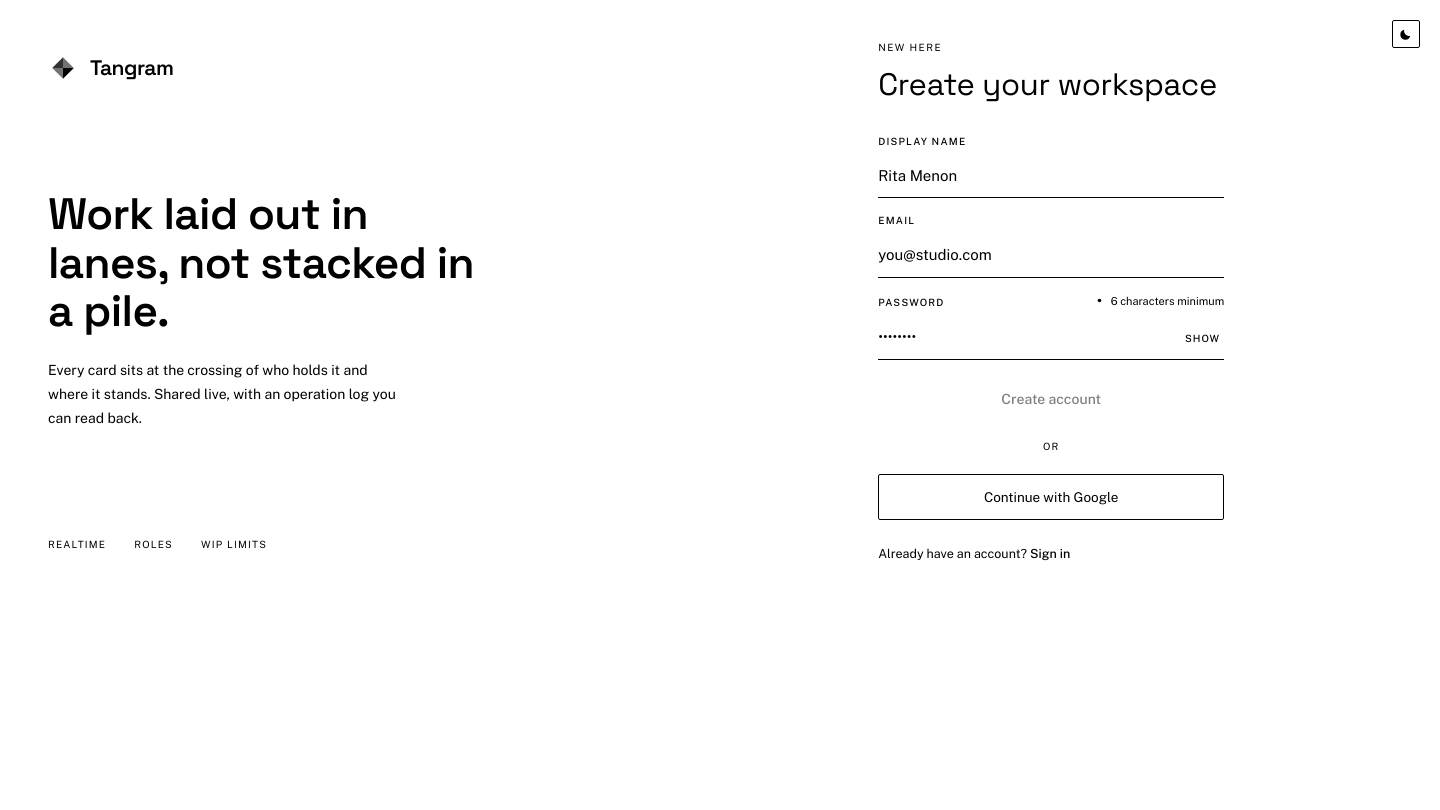
SignupPage — where a new account lands › stays put and explains when sign-up fails
Type "Ada Lovelace" into the field labelled "Display name" at point(1051, 176), box [878,154,1224,198]
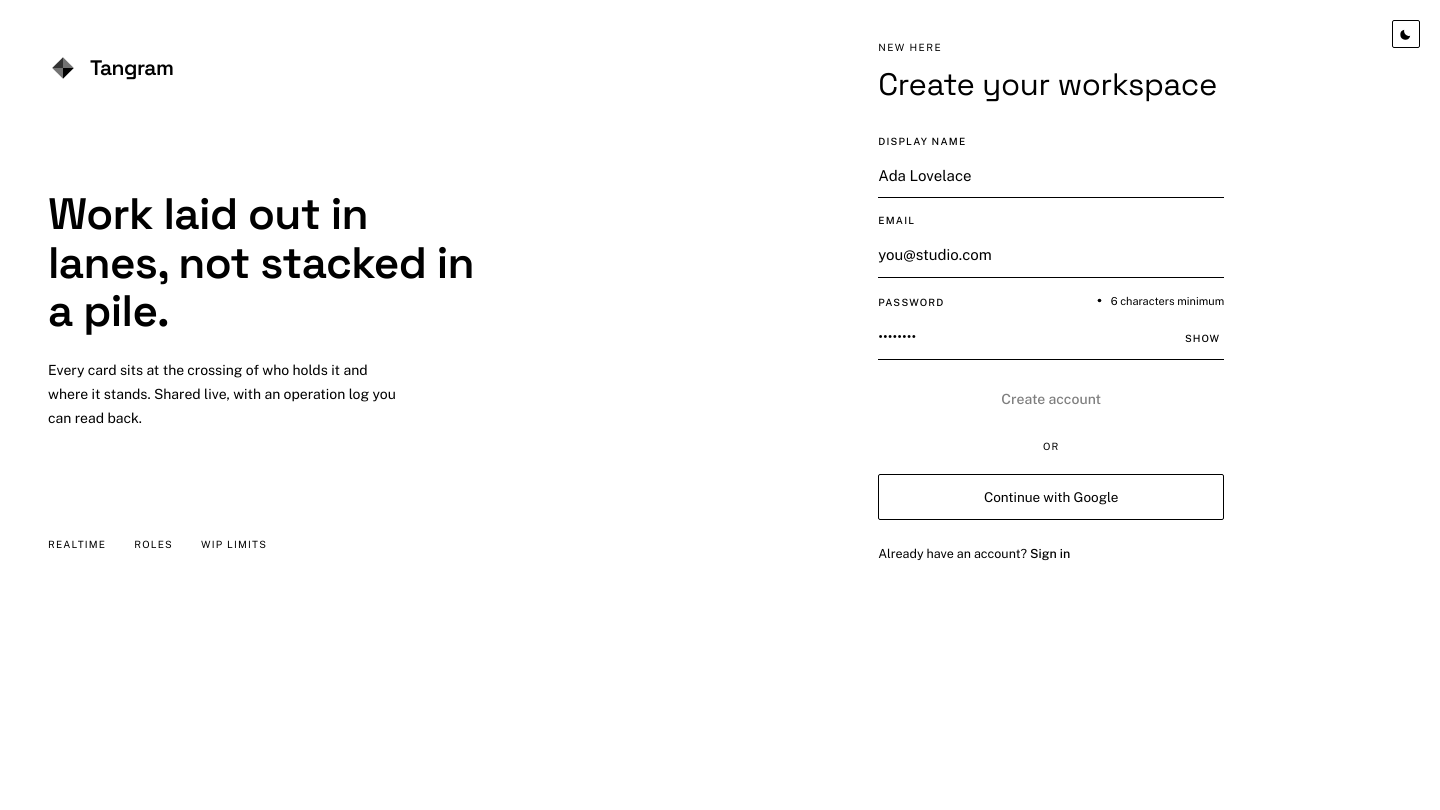
Type "ada@example.com" into the field labelled "Email" at point(1051, 256), box [878,234,1224,278]
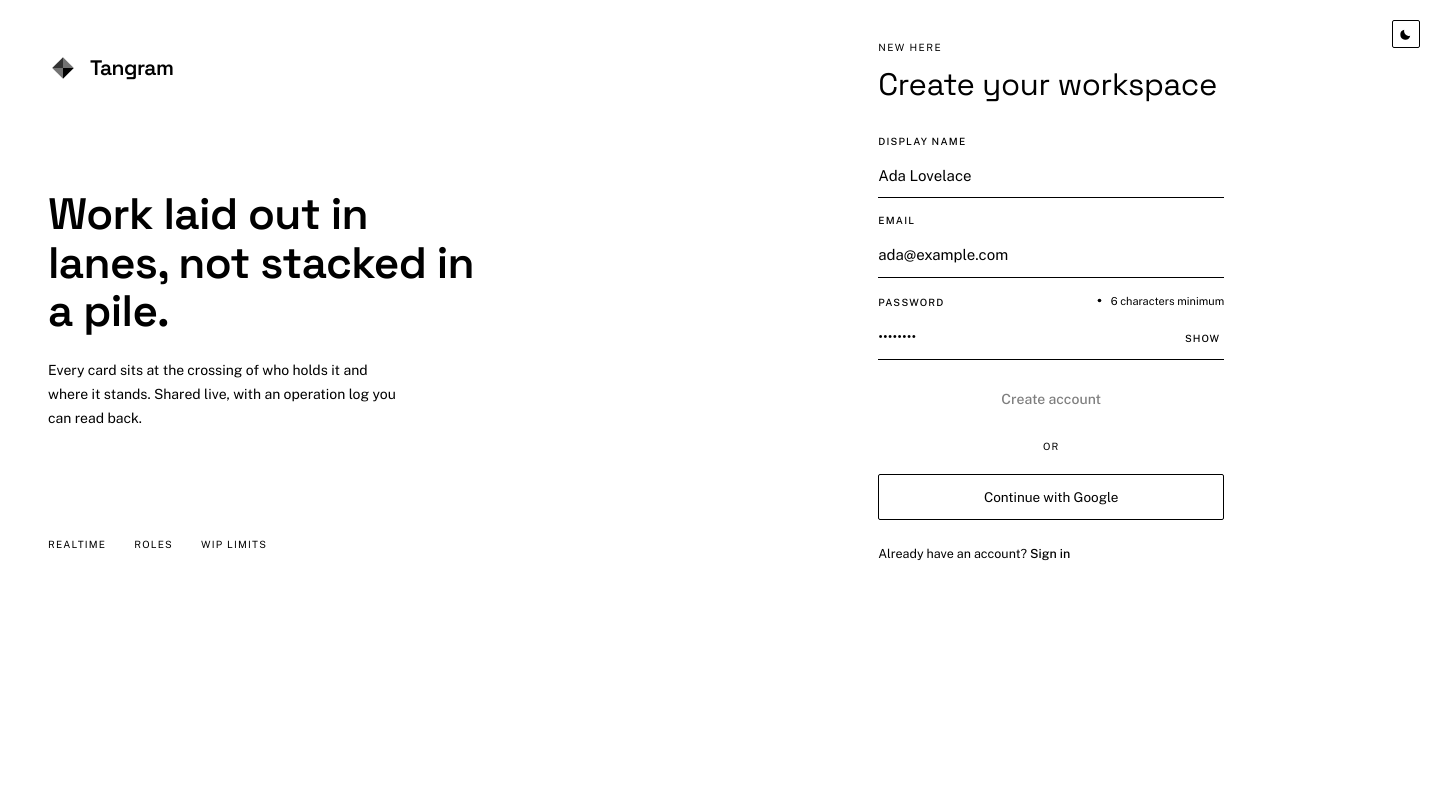
Type "correct-horse" into the password field labelled "Password" at point(1051, 338), box [878,316,1224,360]
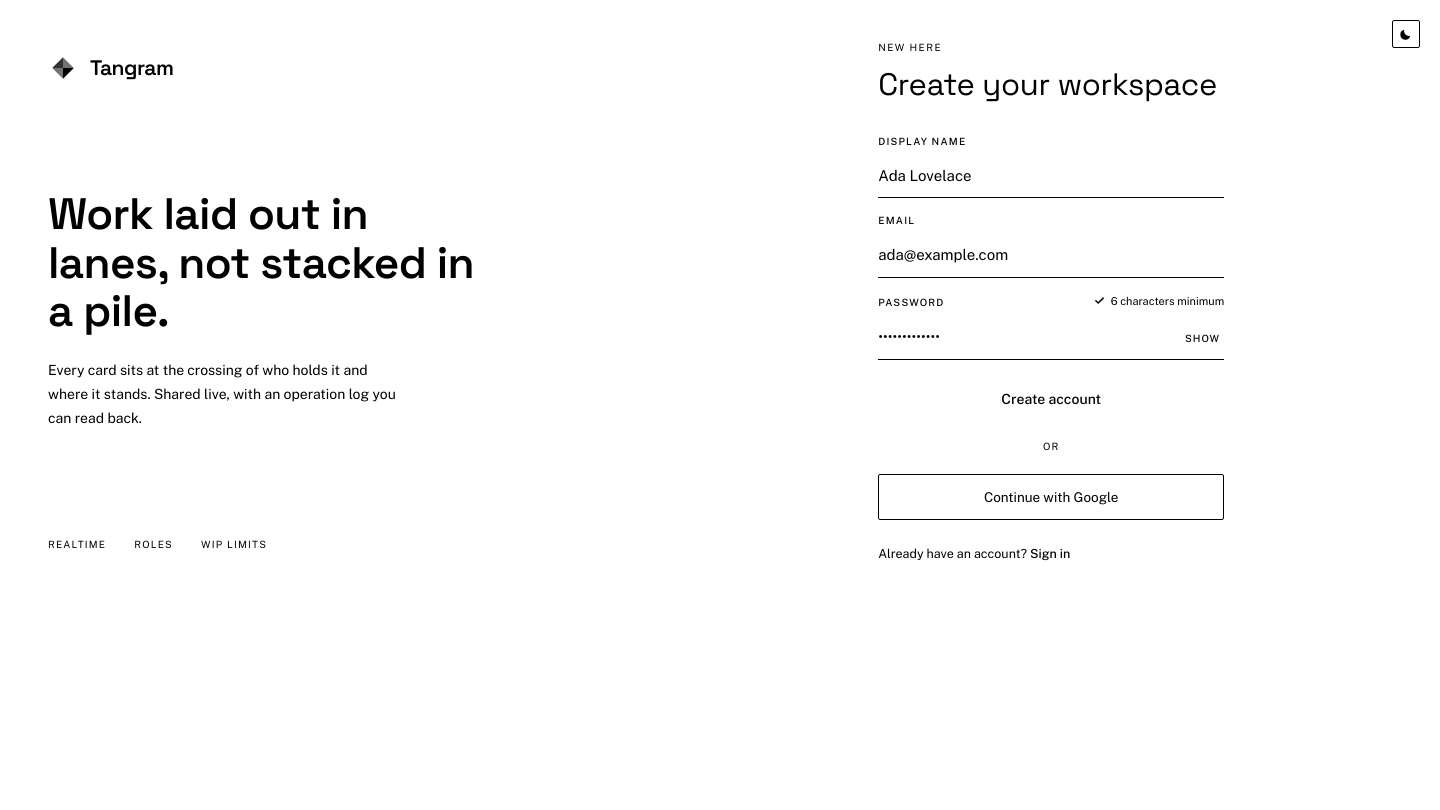
Click the button "Create account" at point(1051, 399), box [878,379,1224,419]
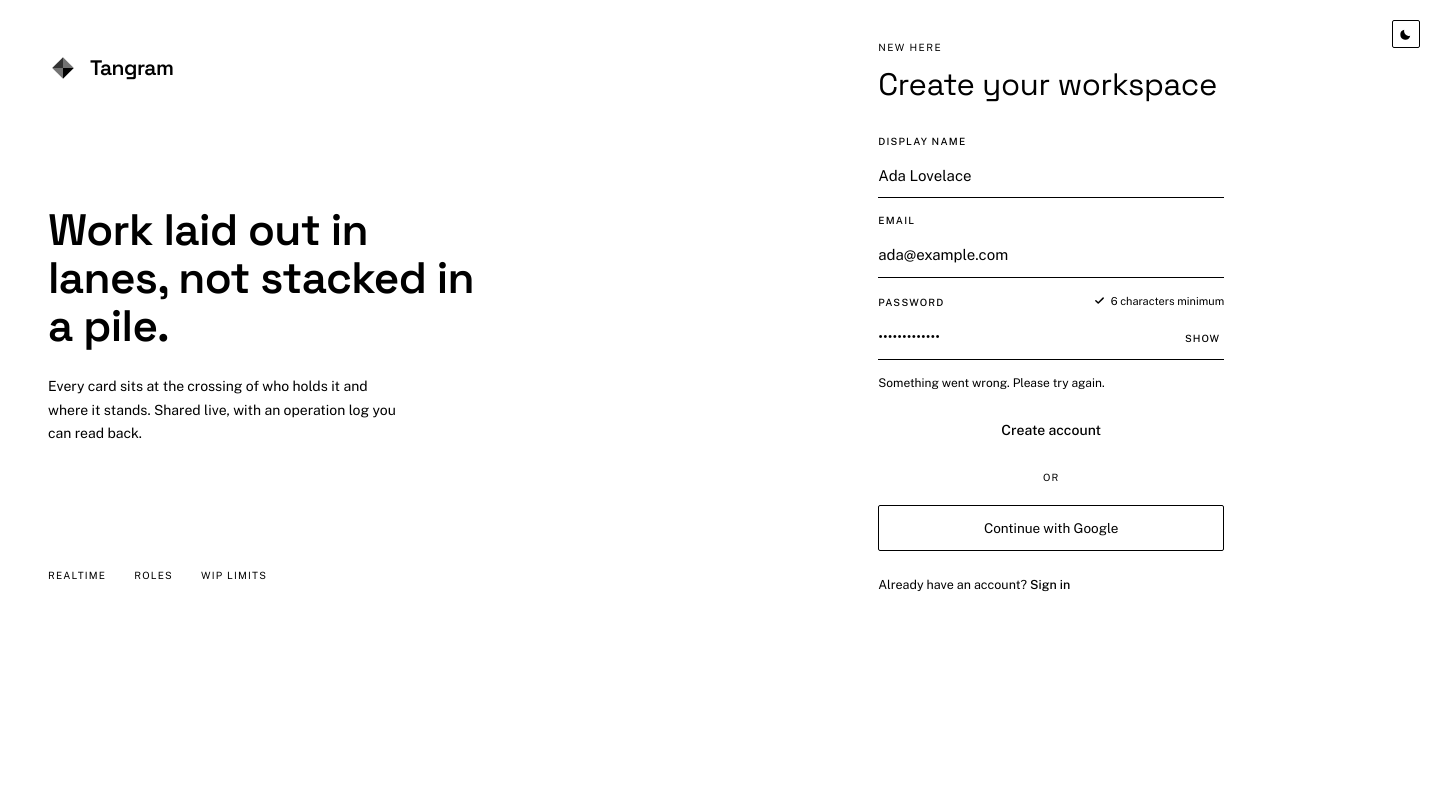
Now the message "Something went wrong. Please try again." is shown, box [878,376,1105,390]
